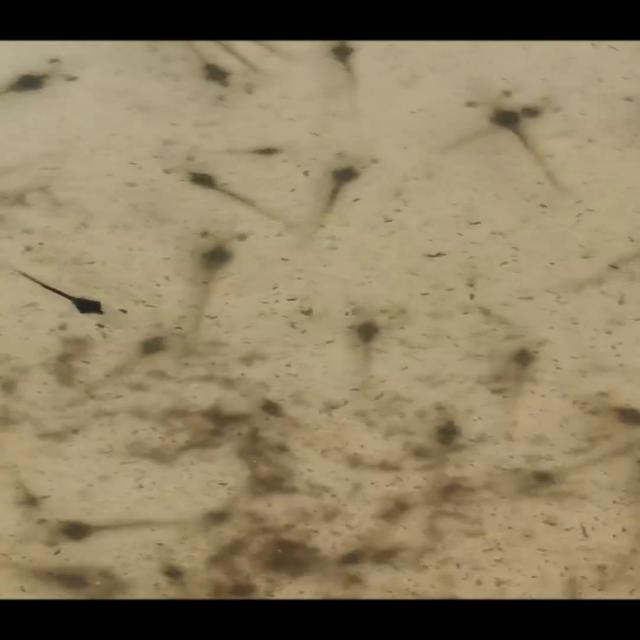shrimp: (457, 67, 580, 195), (153, 154, 292, 238), (300, 128, 407, 236), (0, 261, 141, 339), (163, 225, 253, 347), (420, 96, 568, 170), (78, 324, 187, 416), (33, 502, 205, 553), (162, 41, 278, 100), (338, 310, 411, 393), (495, 336, 550, 430), (0, 51, 82, 110)
